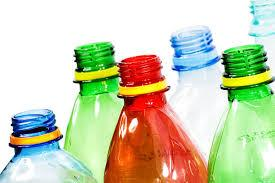Plastic bottle: (0, 1, 275, 183)
